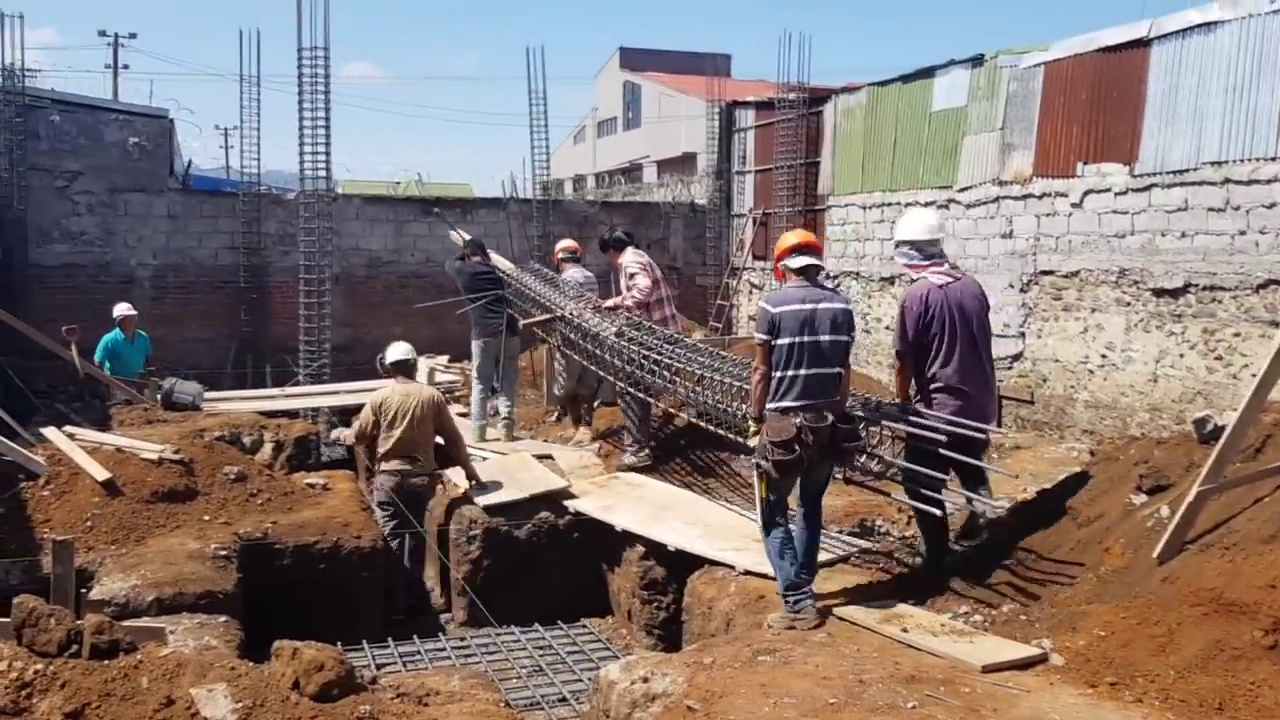helmet: (773, 227, 825, 280), (894, 212, 945, 248), (383, 340, 416, 368), (554, 237, 582, 263), (111, 304, 138, 320)
helmet-off: (597, 226, 637, 261), (463, 238, 490, 265)
helmet-on: (895, 211, 955, 278), (770, 226, 828, 291), (380, 340, 421, 384), (556, 236, 586, 274), (112, 305, 138, 339)
person: (884, 209, 1000, 591), (753, 225, 861, 631), (340, 346, 488, 624), (596, 224, 686, 482), (552, 233, 623, 449), (443, 239, 518, 429), (93, 304, 152, 381)
